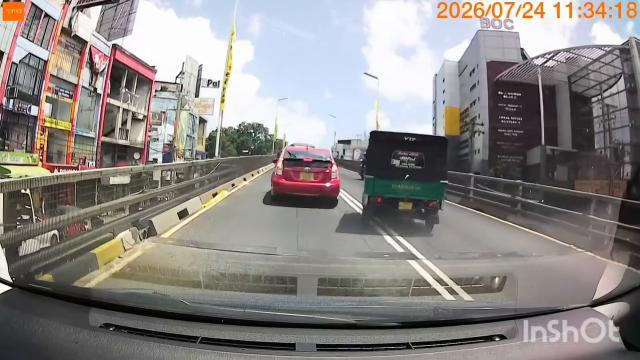illegal overtaking: (356, 117, 454, 234)
